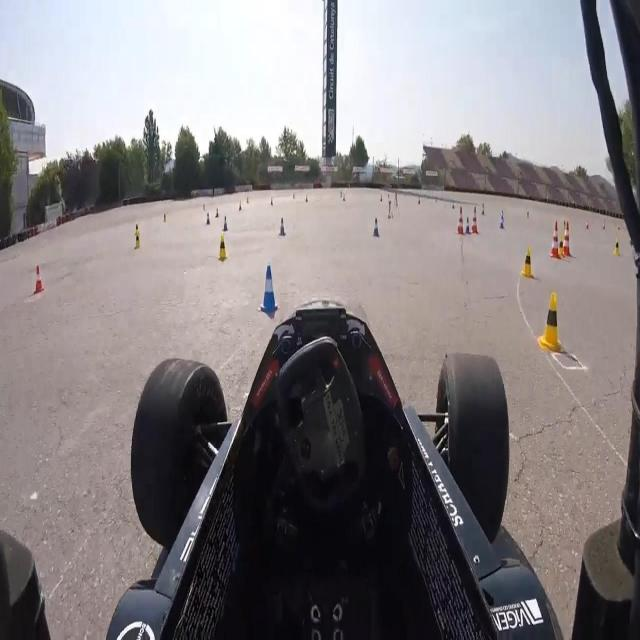blue_cone: (259, 262, 278, 318), (278, 216, 287, 238), (372, 215, 380, 239), (222, 213, 229, 233), (499, 214, 505, 231), (465, 217, 470, 235)
large_orange_cone: (549, 219, 560, 259), (562, 220, 571, 257), (470, 206, 479, 234), (456, 206, 464, 236)
orange_cone: (32, 264, 44, 295)
yellow_cone: (539, 290, 562, 354), (521, 246, 534, 278), (218, 235, 228, 262), (558, 236, 564, 260), (613, 237, 620, 257), (134, 230, 141, 250), (134, 222, 140, 235)
